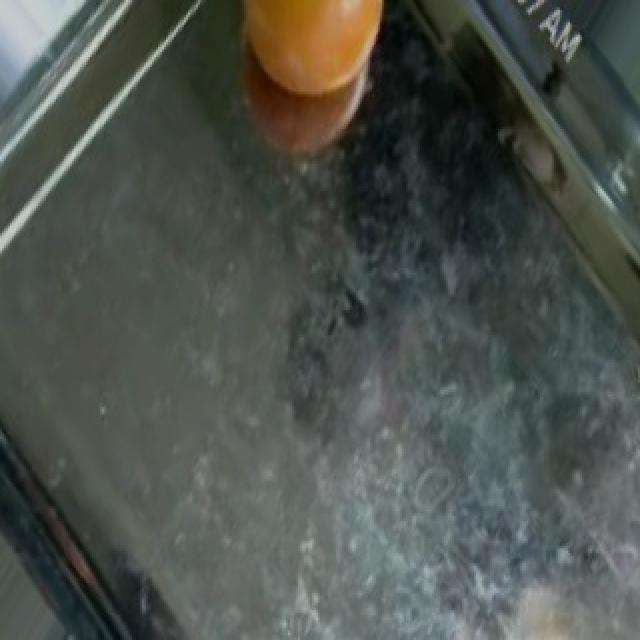Fruit: (210, 0, 412, 181)
